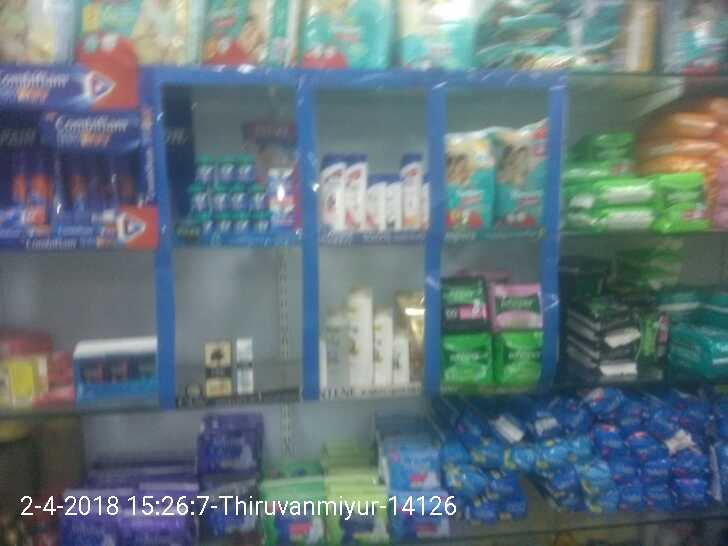vicks: (184, 155, 300, 233)
